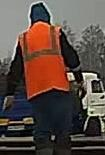gloves: (2, 95, 15, 115), (75, 83, 87, 101)
vest: (18, 22, 71, 100)
